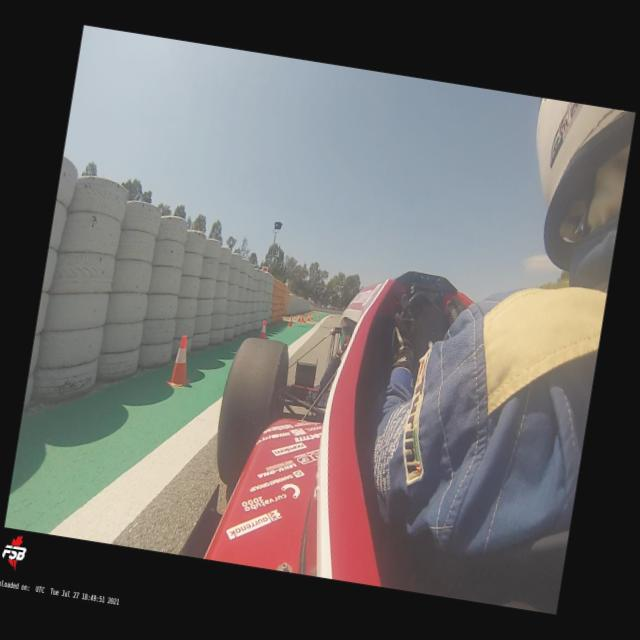orange_cone: (166, 334, 196, 388), (258, 320, 270, 340), (288, 315, 294, 328), (297, 313, 301, 322), (300, 317, 306, 323), (306, 314, 310, 322), (310, 313, 314, 320), (318, 313, 320, 319)
